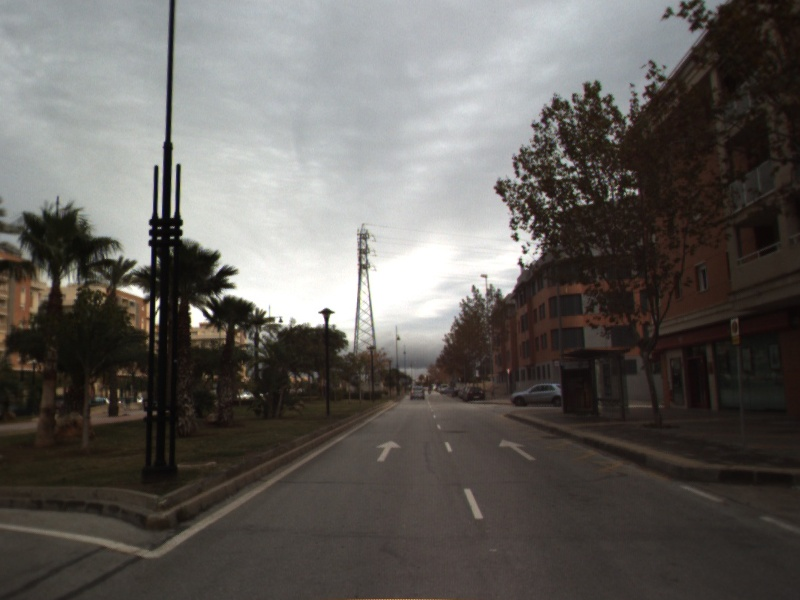STRAIGHT: (497, 437, 539, 462), (374, 439, 403, 464)
